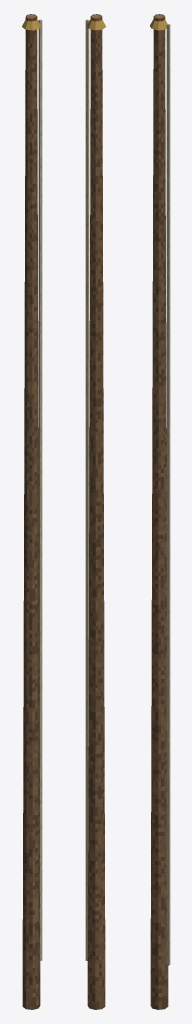
Rendered from f_wooden_flagpole.glb.
The picture shows the model from 3 angles, left to right: view 1: azimuth 30°, elevation 25°; view 2: azimuth 150°, elevation 25°; view 3: azimuth 330°, elevation 25°; orthographic projection.
Visible parts, largest first — view 1: block_pole, block_halyard, block_finial; view 2: block_pole, block_halyard, block_finial; view 3: block_pole, block_halyard, block_finial.
Boxes of the visible parts, <box> form: block_pole: <box>22,14,40,1009</box>; block_halyard: <box>38,19,42,960</box>; block_finial: <box>22,14,40,30</box>; block_pole: <box>87,14,105,1009</box>; block_halyard: <box>85,19,89,960</box>; block_finial: <box>87,14,105,30</box>; block_pole: <box>150,14,168,1009</box>; block_halyard: <box>166,24,170,965</box>; block_finial: <box>150,14,167,30</box>.
Bounding box in the file's own units: 0.0956 × 5 × 0.0831.
1 material, 1 textured.
